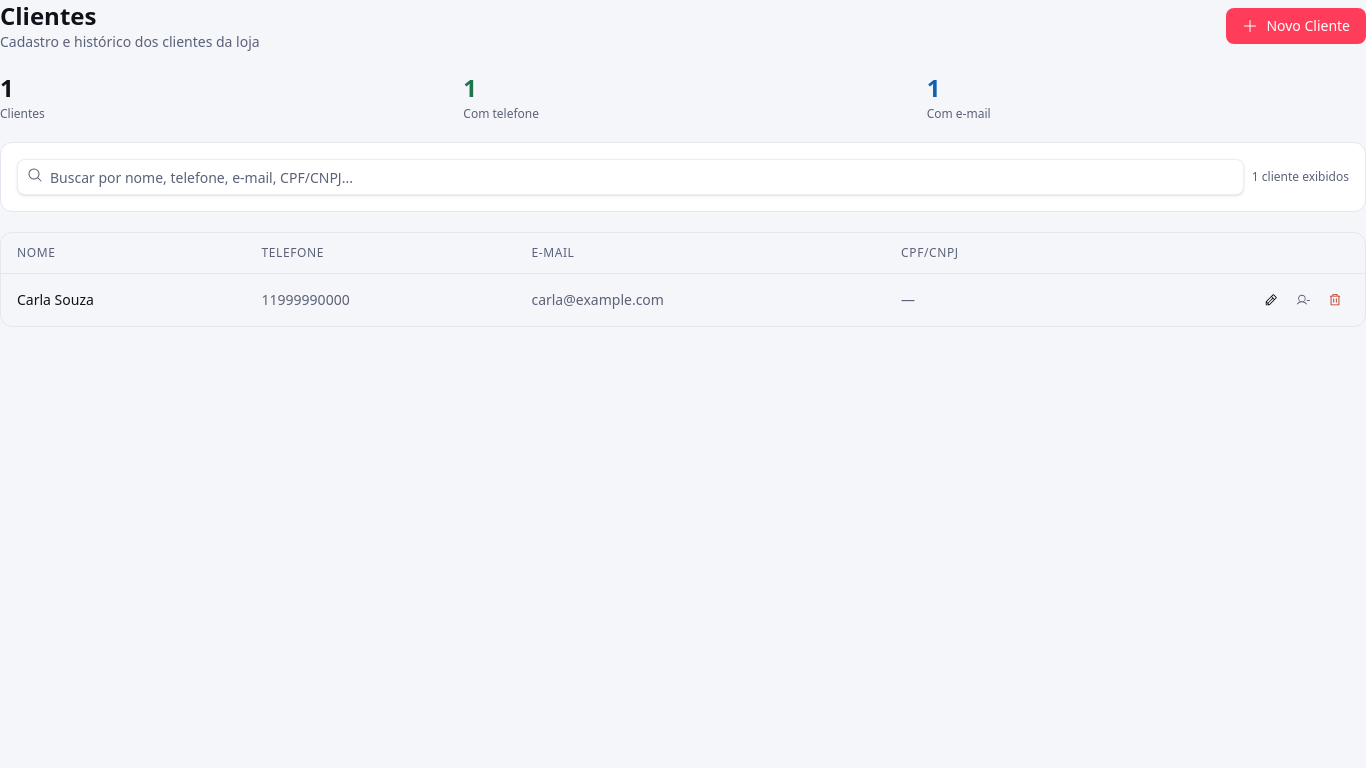
Test case: Clientes — estados e status semântico (PR 5) › mostra o Badge de garantia com a variante semântica correta no perfil do cliente
Click the text "Carla Souza": (55, 300) [1, 274, 246, 326]
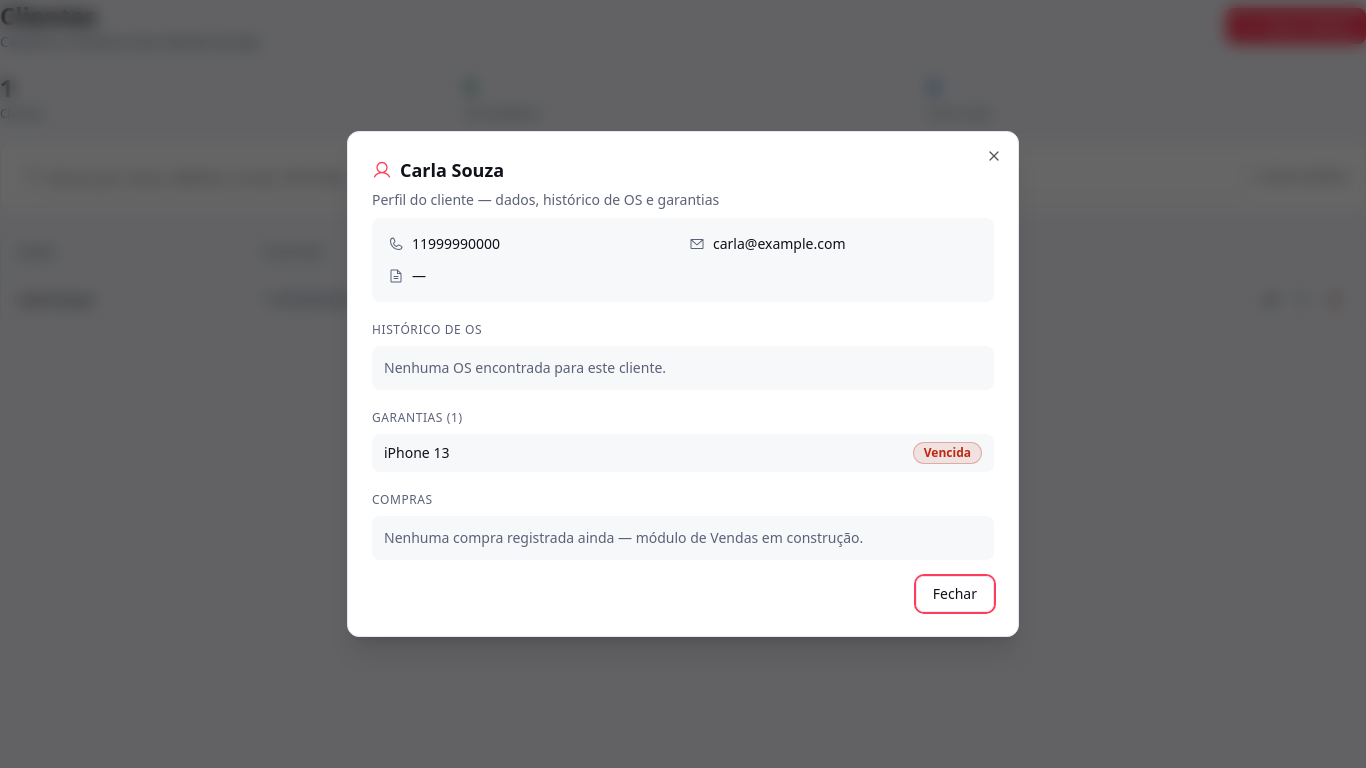
Expected: the text "Vencida" is shown, [913, 442, 982, 464]
